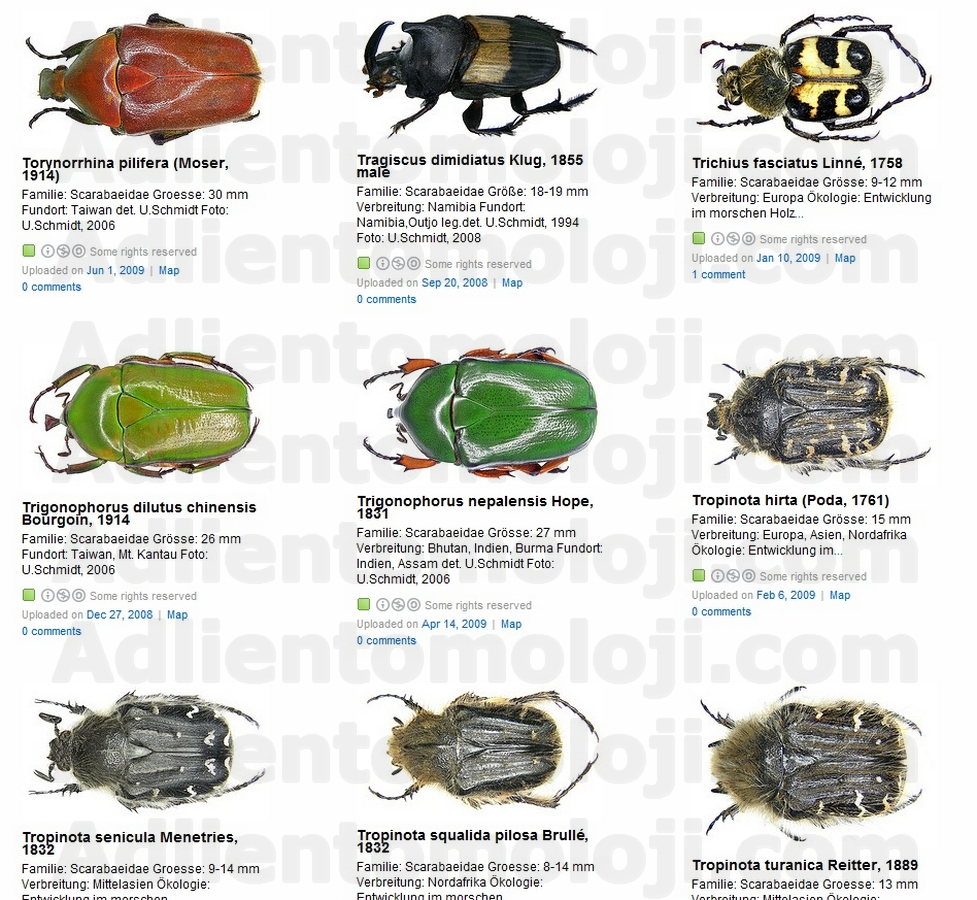Tropinota_senicula: (21, 668, 273, 819)
